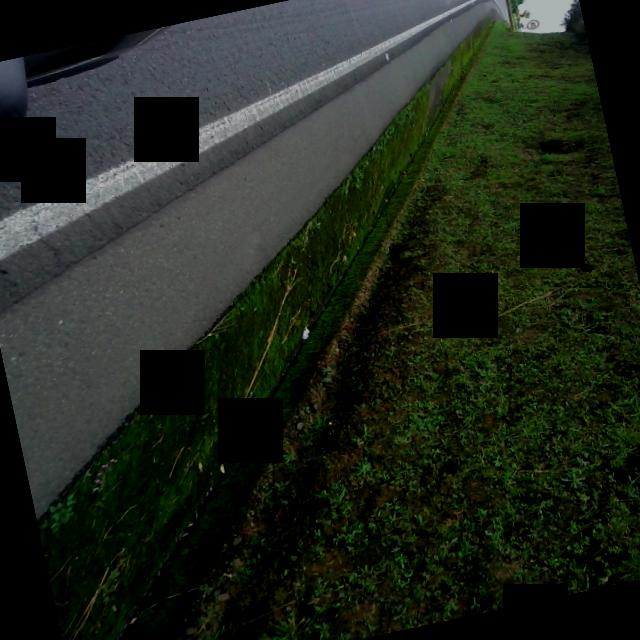DITCH: (0, 0, 627, 640), (0, 0, 564, 640)
